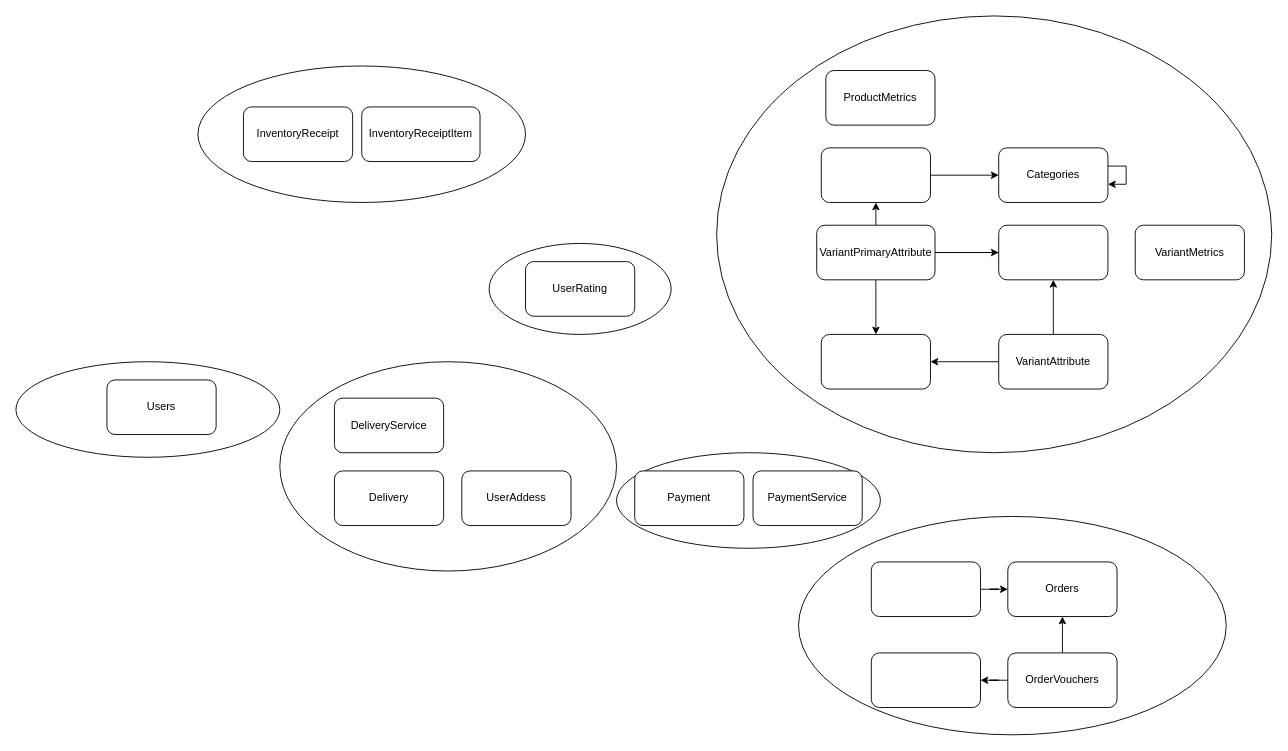
Some shapes in this 1288 by 751 pixel diagram are drawn without their labels. Here are the shapes that lost their labels. From the top down, the box of each, then its label:
(820, 147, 930, 202): Products
(998, 224, 1108, 280): ProductVariations
(820, 334, 930, 389): Attributes
(870, 561, 981, 617): OrderItems
(870, 652, 981, 708): Vouchers
